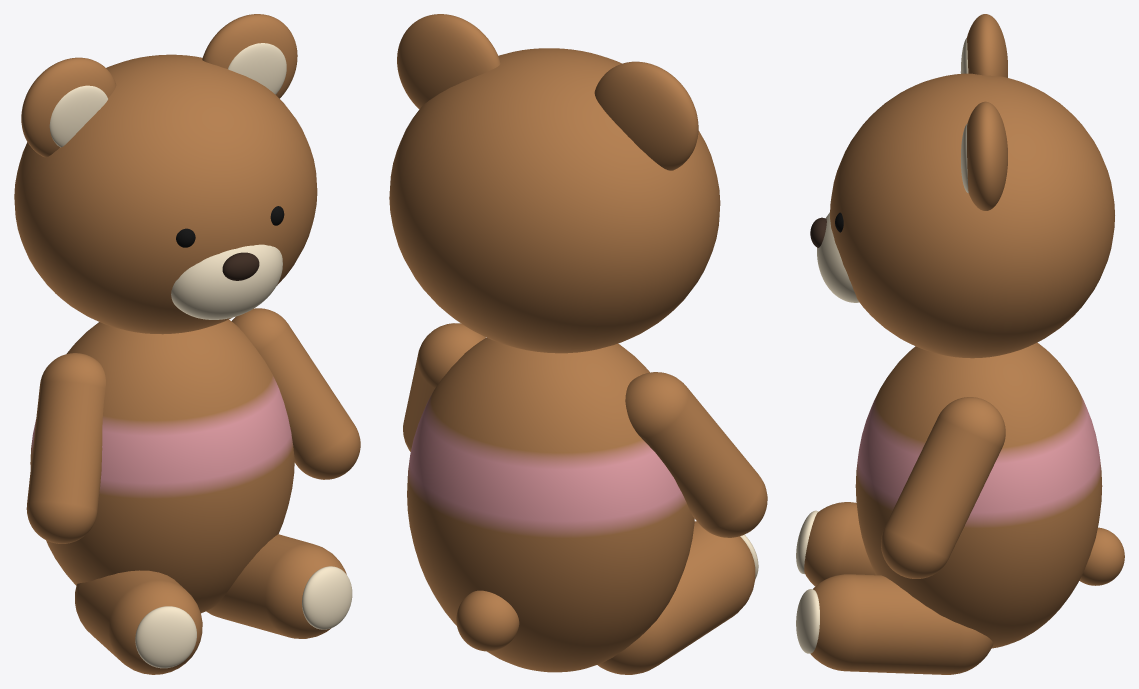
The model's file is teddy-builder-v1.painted.noroot.glb.
3 renders of one model, left to right at view 1: azimuth 30°, elevation 25°; view 2: azimuth 150°, elevation 25°; view 3: azimuth 270°, elevation 25°, orthographic. The views are drawn at different scales.
Visible parts, largest first — view 1: head, body, arm_r, arm_l, leg_l, leg_r, muzzle, ear_r, ear_l, foot_pad_r, foot_pad_l, ear_r_inner (+2 smaller); view 2: head, body, arm_r, leg_r, ear_r, ear_l, arm_l, tail; view 3: head, body, leg_l, arm_l, leg_r, ear_l, ear_r, tail, muzzle, foot_pad_l, foot_pad_r.
Boxes of the visible parts, box(x1,y1,x2,y2) form: head: box(14, 54, 317, 334); body: box(30, 319, 294, 613); arm_r: box(26, 353, 105, 543); arm_l: box(231, 308, 360, 479); leg_l: box(206, 534, 346, 638); leg_r: box(75, 570, 202, 674); muzzle: box(171, 244, 282, 319); ear_r: box(21, 57, 116, 157); ear_l: box(202, 14, 297, 98); foot_pad_r: box(135, 606, 196, 668); foot_pad_l: box(302, 566, 352, 629); ear_r_inner: box(49, 85, 107, 147); head: box(389, 48, 720, 353); body: box(407, 337, 694, 672); arm_r: box(625, 372, 767, 537); leg_r: box(597, 521, 755, 674); ear_r: box(594, 61, 698, 170); ear_l: box(397, 14, 500, 109); arm_l: box(403, 323, 485, 451); tail: box(456, 590, 519, 651); head: box(830, 73, 1114, 358); body: box(855, 342, 1102, 648); leg_l: box(810, 574, 993, 674); arm_l: box(881, 397, 1005, 578); leg_r: box(804, 502, 875, 586); ear_l: box(967, 101, 1007, 210); ear_r: box(967, 14, 1007, 77); tail: box(1079, 527, 1124, 585); muzzle: box(817, 212, 859, 302); foot_pad_l: box(796, 589, 819, 653); foot_pad_r: box(796, 510, 818, 574).
Size of the model in its own units: 0.1476 by 0.2509 by 0.1288.
